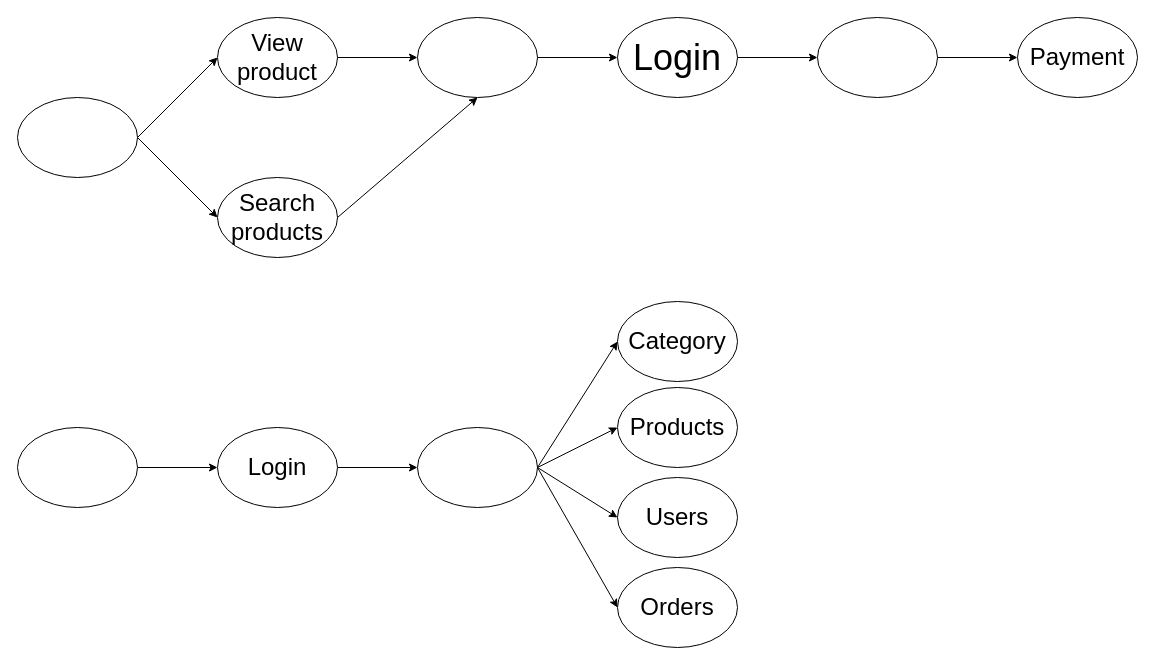
Image size: 1155x665. Some labels were removed from this diagram. The shapes that lost their labels are listed below. From the top down, each one's centre as x and y in pixels, then its label:
(477,57): Cart
(877,57): View cart list
(77,137): User
(77,467): Admin
(477,467): CRUD
